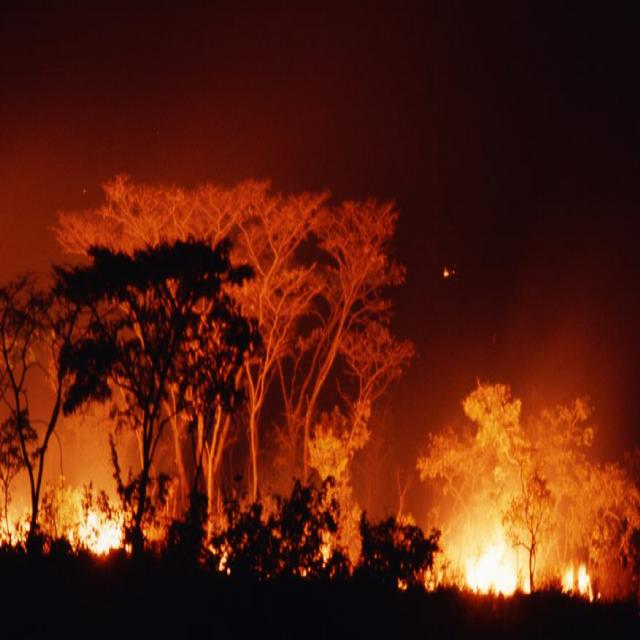Fire: (0, 420, 141, 554), (460, 492, 516, 595), (559, 564, 592, 593)
